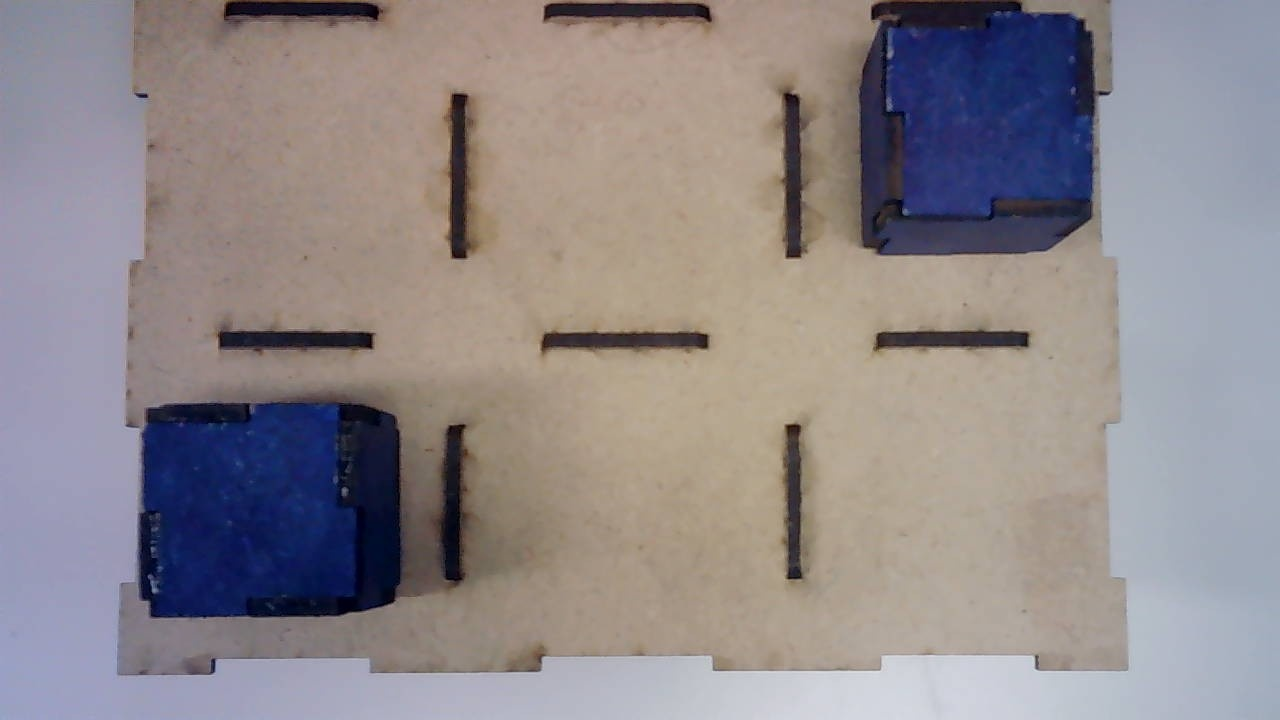blue box: (139, 400, 400, 619), (859, 15, 1092, 253)
